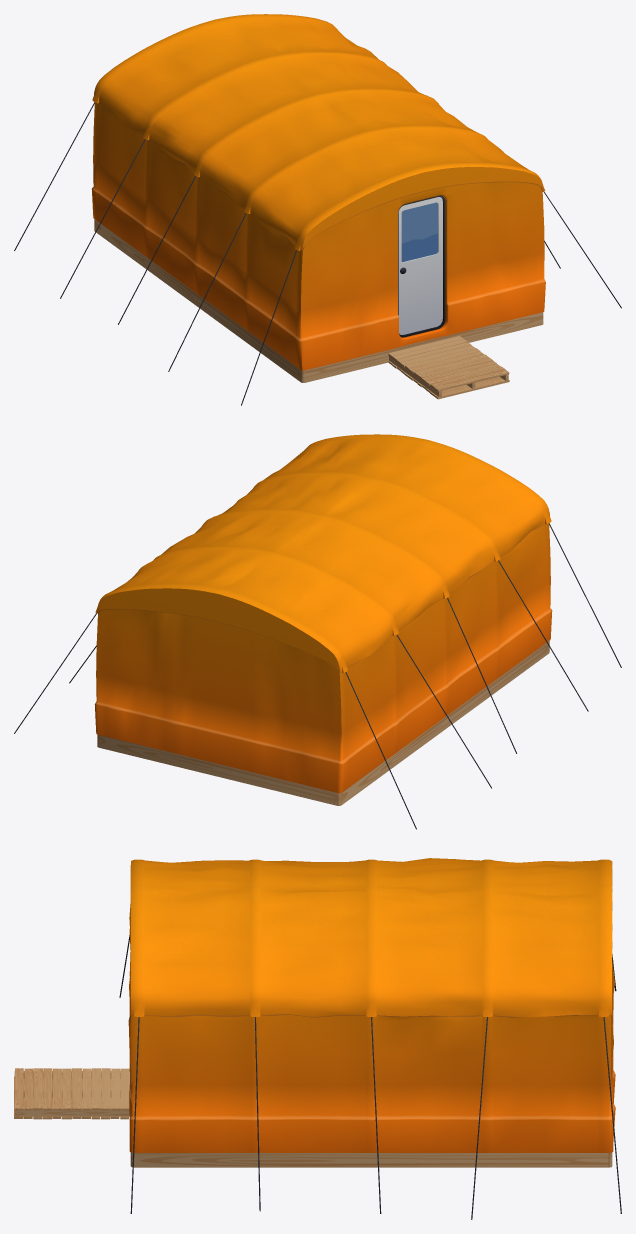
File: Tent00.fbx
The picture shows the model from 3 angles, top to bottom: view 1: azimuth 30°, elevation 25°; view 2: azimuth 150°, elevation 25°; view 3: azimuth 270°, elevation 25°; orthographic projection. The views are drawn at different scales.
Parts seen in each view (by area): view 1: Tent00; view 2: Tent00; view 3: Tent00.
Part boxes in pixels (left/top/right/bottom): Tent00: left=14, top=14, right=621, bottom=405; Tent00: left=14, top=434, right=621, bottom=829; Tent00: left=14, top=858, right=621, bottom=1219.
Bounding box in the file's own units: 5.9 × 2.48 × 6.38.
